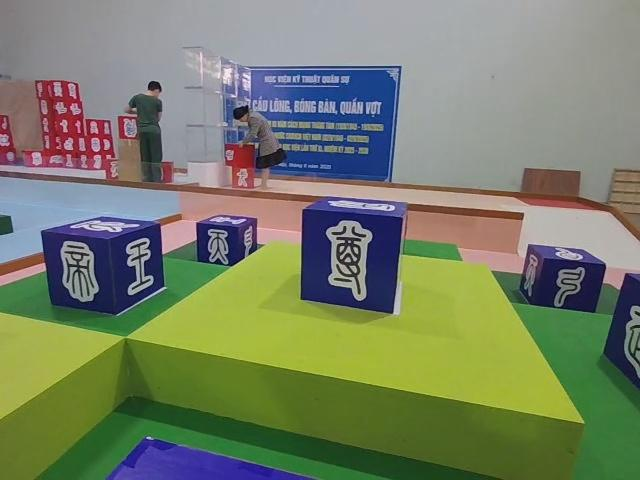R2 Fake Blue: (300, 197, 407, 315), (41, 217, 165, 316), (520, 245, 605, 314), (196, 214, 257, 267)
